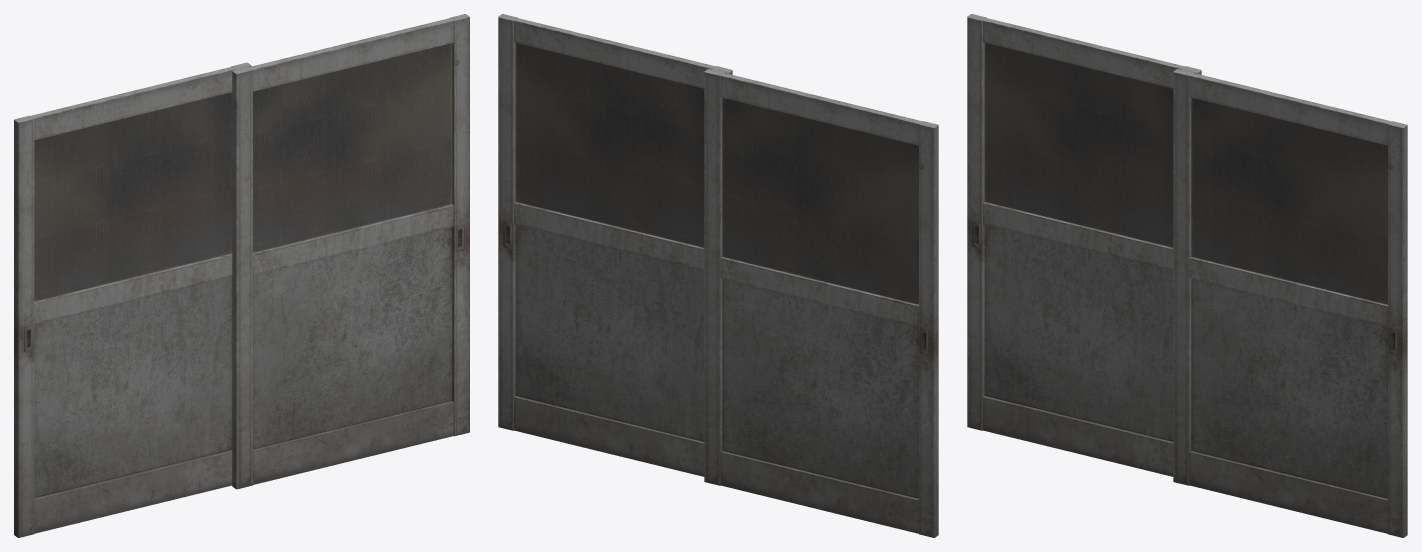
Rendered from Door_C.fbx.
3 renders of one model, left to right at view 1: azimuth 30°, elevation 25°; view 2: azimuth 150°, elevation 25°; view 3: azimuth 330°, elevation 25°, orthographic.
Visible parts, largest first — view 1: Door_C_Right, Door_C2_Left; view 2: Door_C2_Left, Door_C_Right; view 3: Door_C_Right, Door_C2_Left.
Boxes of the visible parts, <box> form: Door_C_Right: <box>232,14,469,489</box>; Door_C2_Left: <box>14,62,251,537</box>; Door_C2_Left: <box>704,69,938,537</box>; Door_C_Right: <box>498,14,732,476</box>; Door_C_Right: <box>1173,69,1407,537</box>; Door_C2_Left: <box>967,14,1201,476</box>.
Size of the model in its own units: 219 by 194 by 8.43.
Materials: 1 (1 with a texture image).
